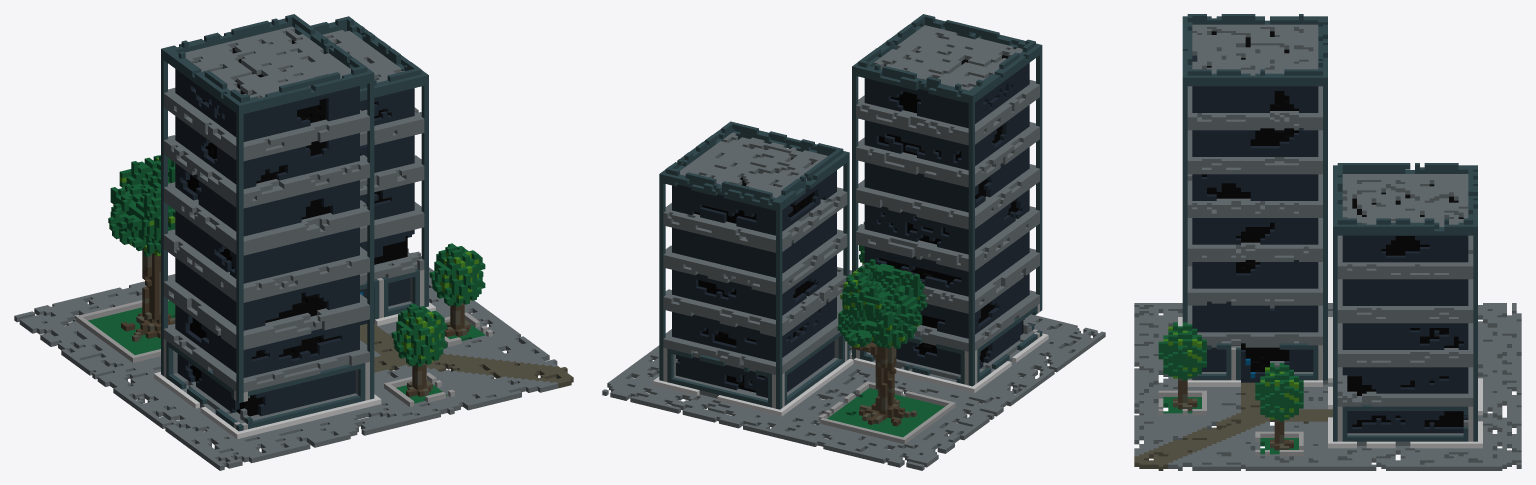
File: building_big_3_damaged.obj
3 renders of one model, left to right at view 1: azimuth 30°, elevation 25°; view 2: azimuth 150°, elevation 25°; view 3: azimuth 270°, elevation 25°, orthographic. The views are drawn at different scales.
Bounding box in the file's own units: 8 × 7.2 × 8.
Materials: 1 (1 with a texture image).
